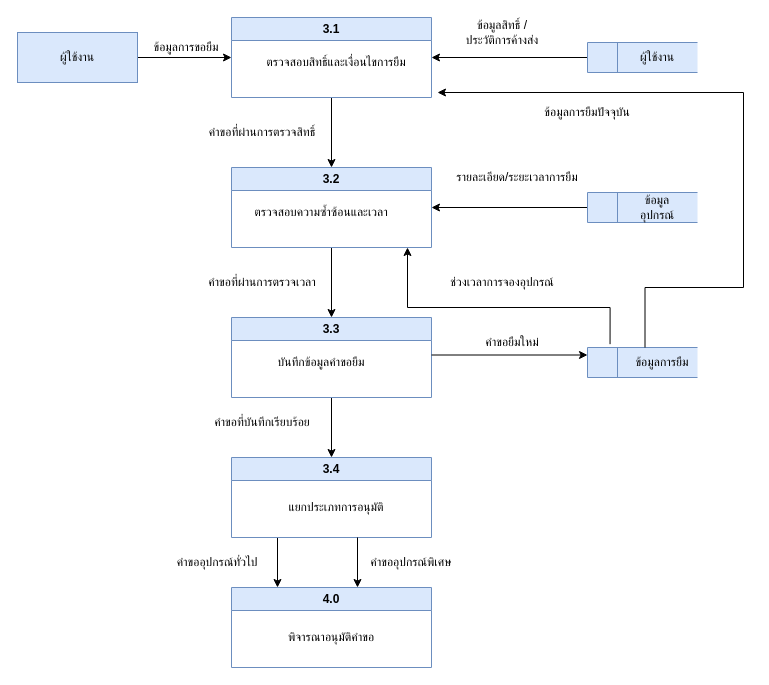
Some shapes in this 769 by 685 pixel diagram are drawn without their labels. The box of each missing label's shape, as (x1, y1, x2, y2) in pixels:
D1: (586, 42, 698, 72)
D2: (586, 192, 698, 222)
D3: (586, 346, 698, 378)
